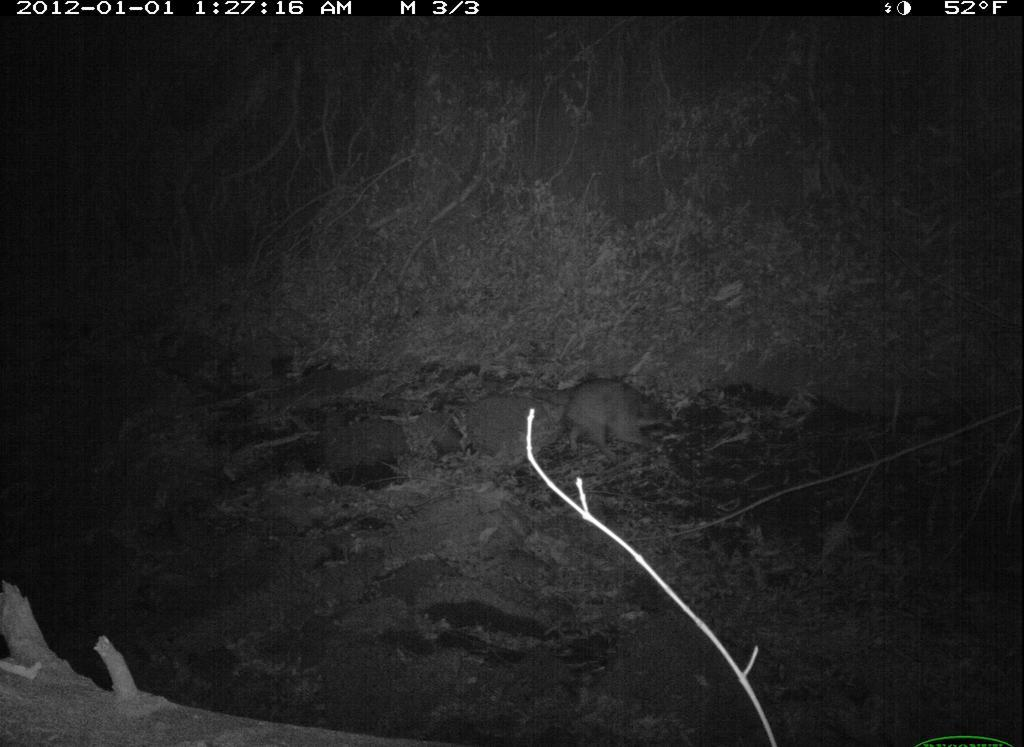raccoon: (532, 369, 684, 469)
